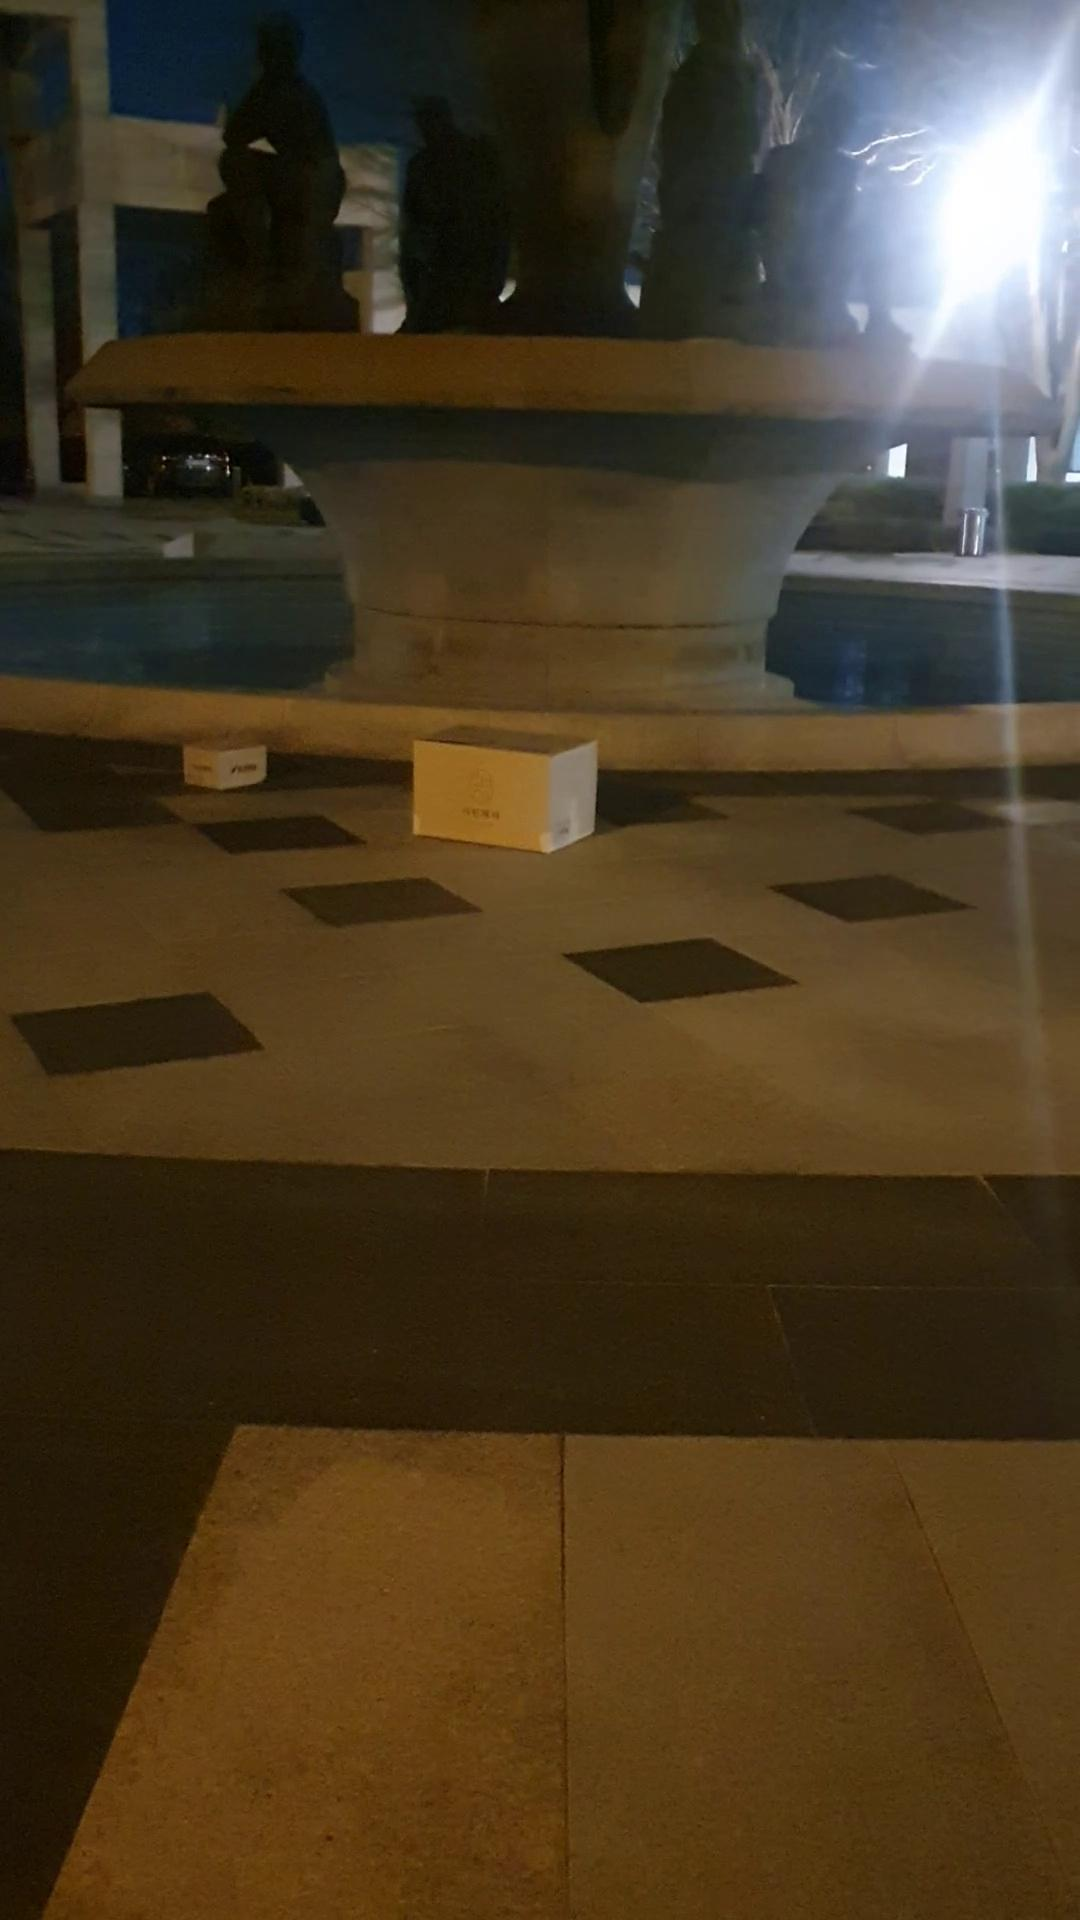Box: (388, 715, 637, 865), (161, 728, 278, 795)
